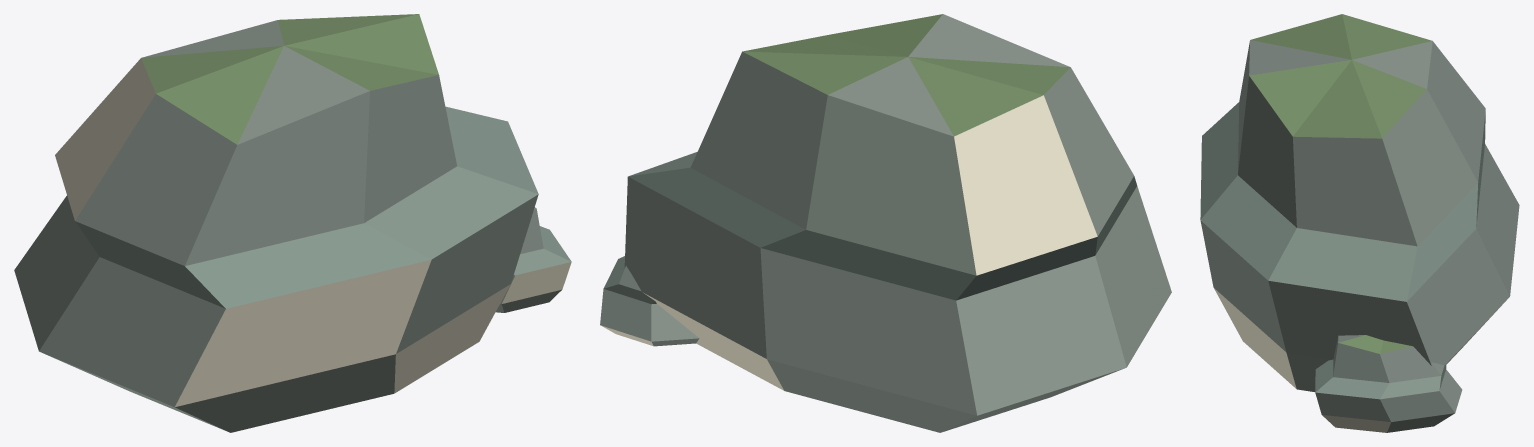
File: boulder_moss_tall.glb
3 renders of one model, left to right at view 1: azimuth 30°, elevation 25°; view 2: azimuth 150°, elevation 25°; view 3: azimuth 270°, elevation 25°, orthographic. The views are drawn at different scales.
Visible parts, largest first — view 1: boulder_moss_tall / mesh; view 2: boulder_moss_tall / mesh; view 3: boulder_moss_tall / mesh.
Part boxes in pixels (bbox=[...]): boulder_moss_tall / mesh: bbox=[14, 14, 571, 432]; boulder_moss_tall / mesh: bbox=[600, 14, 1171, 432]; boulder_moss_tall / mesh: bbox=[1200, 14, 1519, 432].
Size of the model in its own units: 4.35 by 2.5 by 2.75.
